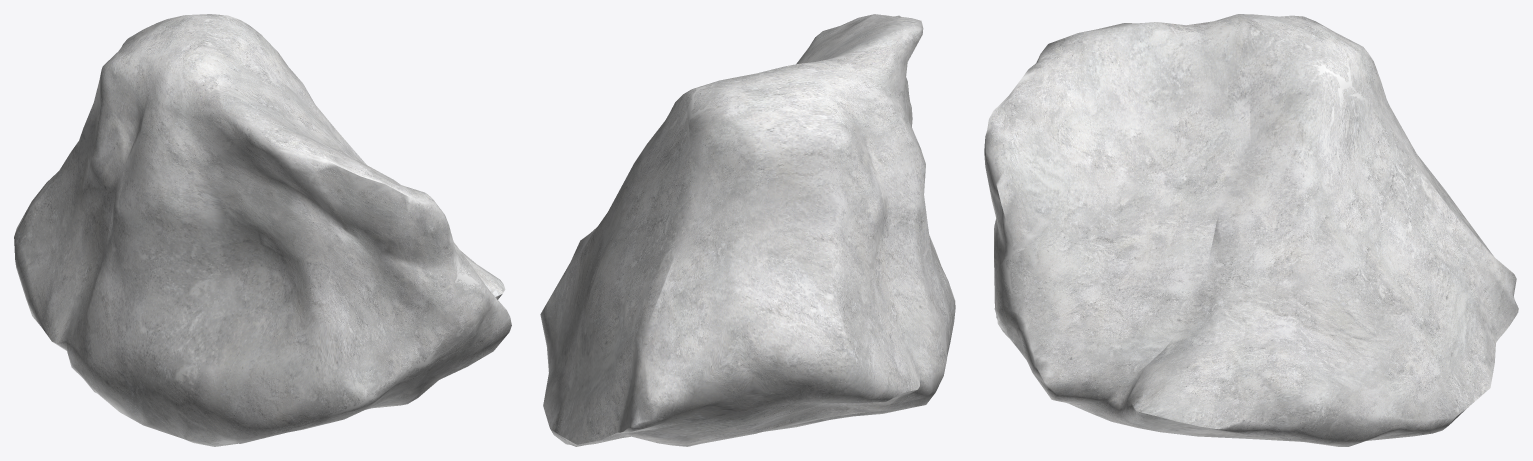
Rendered from rock_00D.fbx.
The picture shows the model from 3 angles, left to right: view 1: azimuth 30°, elevation 25°; view 2: azimuth 150°, elevation 25°; view 3: azimuth 270°, elevation 25°; orthographic projection.
Parts seen in each view (by area): view 1: rock_00D; view 2: rock_00D; view 3: rock_00D.
Part boxes in pixels (x1=…): rock_00D: x1=14, y1=14, x2=511, y2=446; rock_00D: x1=540, y1=14, x2=955, y2=446; rock_00D: x1=984, y1=14, x2=1518, y2=446.
Size of the model in its own units: 157 by 141 by 188.
